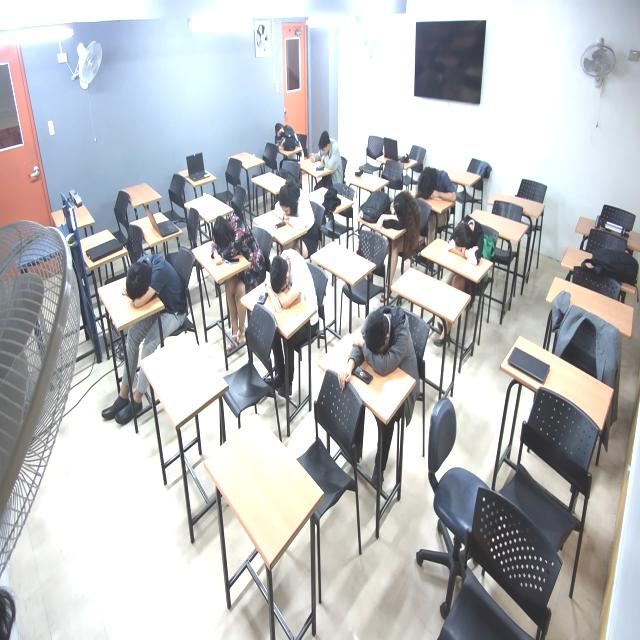sleep: (265, 246, 320, 317), (121, 250, 186, 310), (359, 308, 411, 375), (451, 212, 503, 278), (207, 211, 260, 269), (377, 195, 418, 235), (418, 165, 456, 201), (278, 189, 311, 227), (274, 124, 306, 163)
